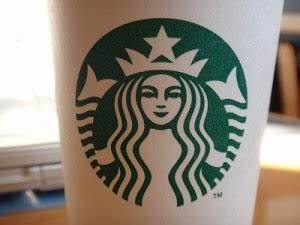starbucks Originale: (68, 11, 253, 210)
